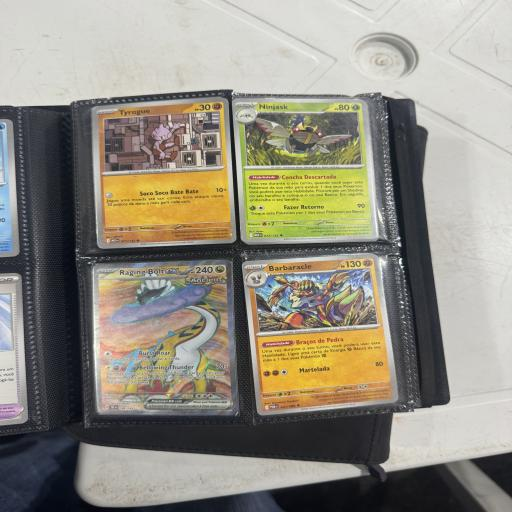card: (241, 247, 400, 417), (231, 89, 378, 249), (92, 260, 239, 420), (92, 97, 237, 249)
